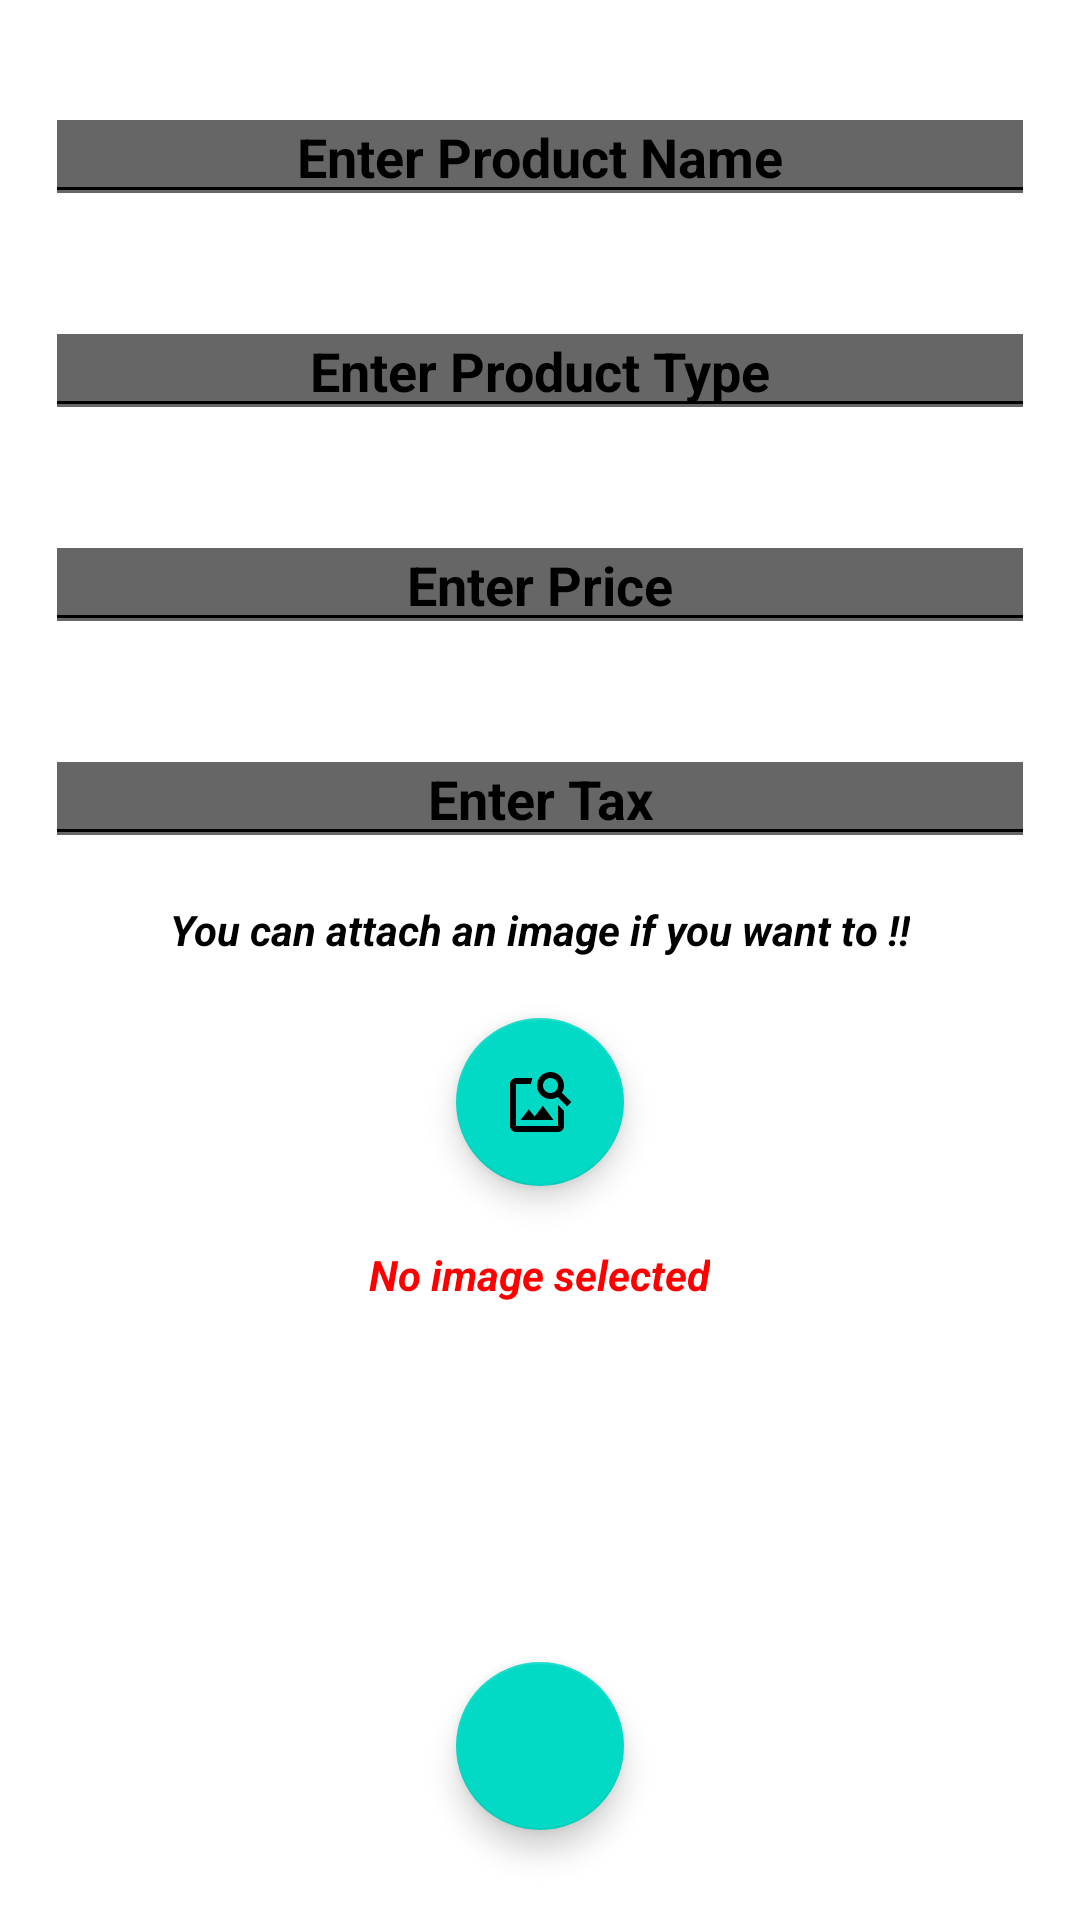

Icons on this 1080px x 1920px Android screen, each with the point to tap as [x,y]:
search: [540,1102]
